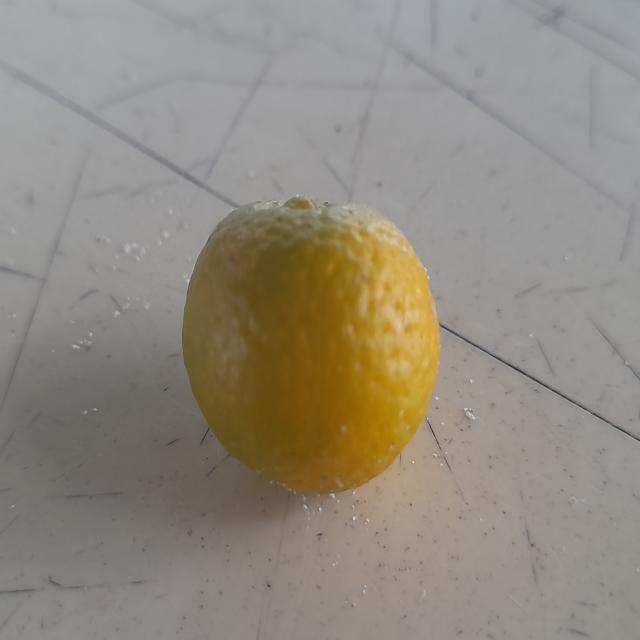greening: (171, 183, 458, 522)
